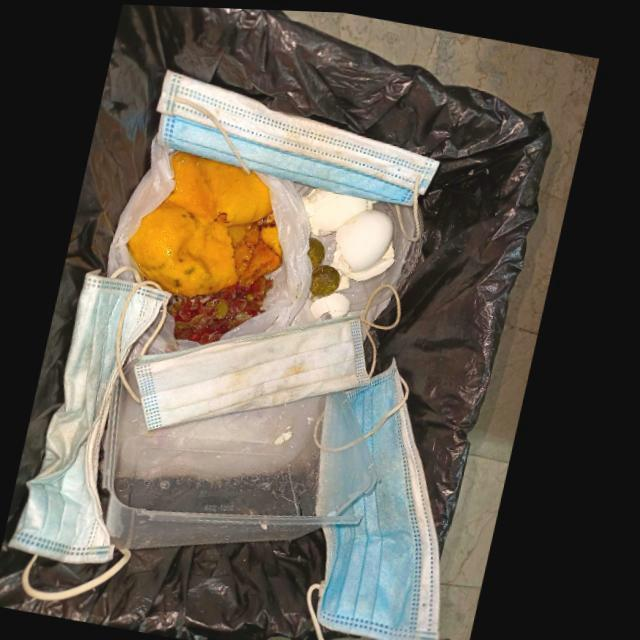plastic_container: (112, 378, 388, 548)
